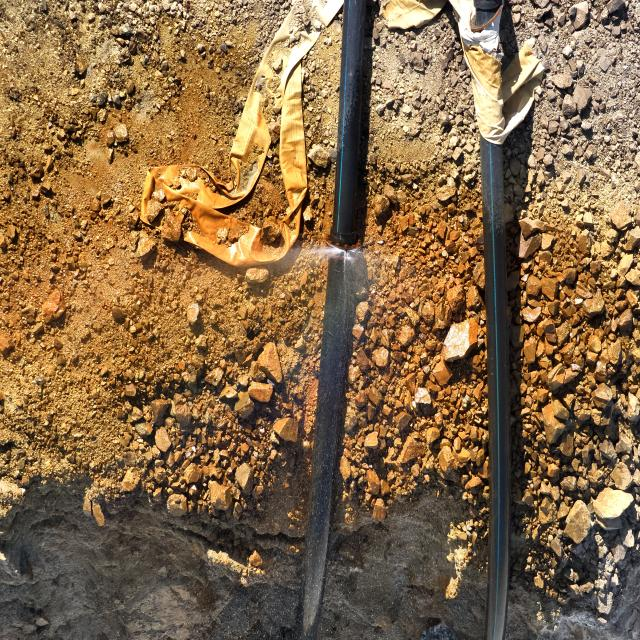leak: (218, 241, 392, 298)
